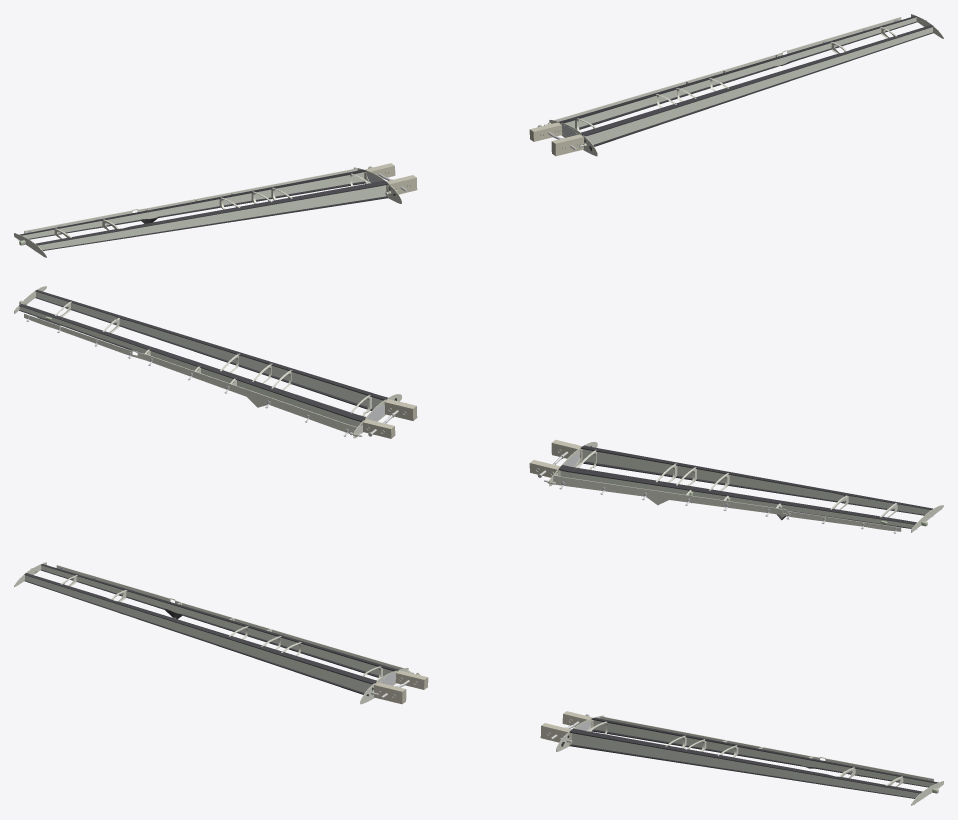
Rendered from da40-wing-structure.glb.
3 views of the same model, one above another, from view 1: azimuth 30°, elevation 25°; view 2: azimuth 150°, elevation 25°; view 3: azimuth 330°, elevation 25° (orthographic).
Visible parts, largest first — view 1: Front spar shear web RH, Front spar shear web LH, Rear spar shear web LH, Rear spar shear web RH, Front spar top cap LH, Front spar top cap RH, Rear web LH, Rear spar top cap LH, Rear web RH, Rear spar top cap RH, Front spar bot cap LH, Rear spar bot cap LH (+2 smaller); view 2: Front spar shear web RH, Front spar shear web LH, Rear web RH, Rear web LH, Rear spar shear web LH, Rear spar top cap LH, Rear spar shear web RH, Rear spar top cap RH, Front spar top cap LH, Front spar top cap RH, Front spar bot cap LH, Front spar bot cap RH; view 3: Front spar shear web LH, Front spar shear web RH, Rear spar shear web RH, Rear spar shear web LH, Front spar top cap RH, Front spar top cap LH, Rear web RH, Rear spar top cap RH, Rear web LH, Rear spar top cap LH, Rear spar bot cap RH, Front spar bot cap RH (+2 smaller).
Boxes of the visible parts, x1,y1,x2,y2 form: Front spar shear web RH: [38, 185, 386, 250]; Front spar shear web LH: [582, 27, 932, 144]; Rear spar shear web LH: [564, 17, 916, 128]; Rear spar shear web RH: [22, 172, 364, 238]; Front spar top cap LH: [581, 25, 933, 136]; Front spar top cap RH: [35, 180, 388, 245]; Rear web LH: [553, 17, 901, 121]; Rear spar top cap LH: [559, 15, 917, 123]; Rear web RH: [24, 168, 357, 233]; Rear spar top cap RH: [19, 169, 366, 235]; Front spar bot cap LH: [593, 32, 933, 146]; Rear spar bot cap LH: [579, 21, 916, 129]; Front spar shear web RH: [582, 449, 930, 514]; Front spar shear web LH: [36, 291, 383, 408]; Rear web RH: [553, 475, 901, 531]; Rear web LH: [24, 313, 357, 433]; Rear spar shear web LH: [19, 306, 364, 426]; Rear spar top cap LH: [19, 303, 365, 421]; Rear spar shear web RH: [560, 470, 914, 527]; Rear spar top cap RH: [558, 465, 916, 524]; Front spar top cap LH: [35, 290, 387, 400]; Front spar top cap RH: [580, 445, 932, 509]; Front spar bot cap LH: [35, 297, 373, 410]; Front spar bot cap RH: [580, 461, 924, 515]; Front spar shear web LH: [571, 733, 919, 797]; Front spar shear web RH: [25, 575, 375, 692]; Rear spar shear web RH: [41, 565, 393, 676]; Rear spar shear web LH: [593, 720, 935, 786]; Front spar top cap RH: [24, 573, 376, 684]; Front spar top cap LH: [569, 728, 922, 793]; Rear web RH: [56, 565, 404, 669]; Rear spar top cap RH: [41, 564, 398, 671]; Rear web LH: [600, 716, 933, 781]; Rear spar top cap LH: [591, 717, 938, 783]; Rear spar bot cap RH: [41, 569, 378, 677]; Front spar bot cap RH: [24, 580, 364, 694].
Size of the model in its own units: 11.17 by 0.4749 by 1.03.
